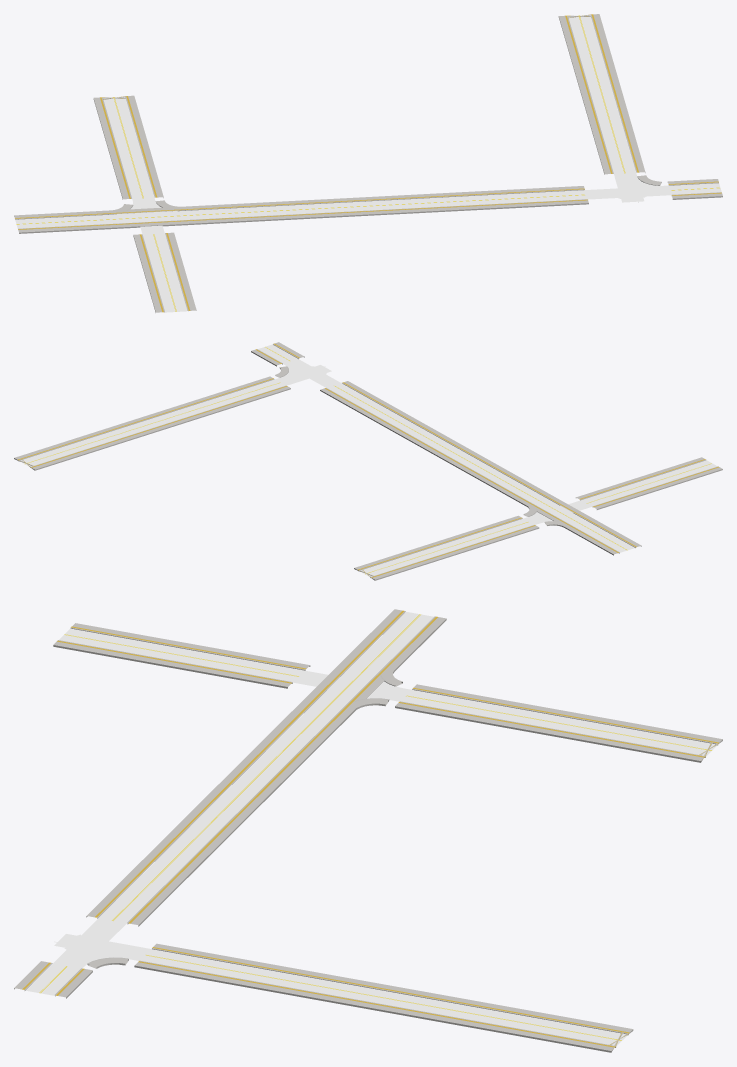
The model's file is roads_3_-3.gltf.
3 views of the same model, one above another, from view 1: azimuth 30°, elevation 25°; view 2: azimuth 150°, elevation 25°; view 3: azimuth 270°, elevation 25° (orthographic). The views are drawn at different scales.
Visible parts, largest first — view 1: roads_3_-3_SH_wet_asphalt, roads_3_-3_SH_sidewalk, roads_3_-3_Road_Tactile_Strip, roads_3_-3_SH_kerb, roads_3_-3_SH_road_marking_white, roads_3_-3_SH_road_marking_yellow; view 2: roads_3_-3_SH_wet_asphalt, roads_3_-3_SH_sidewalk, roads_3_-3_Road_Tactile_Strip, roads_3_-3_SH_kerb, roads_3_-3_SH_road_marking_white, roads_3_-3_SH_road_marking_yellow; view 3: roads_3_-3_SH_wet_asphalt, roads_3_-3_SH_sidewalk, roads_3_-3_Road_Tactile_Strip, roads_3_-3_SH_kerb, roads_3_-3_SH_road_marking_yellow, roads_3_-3_SH_road_marking_white.
Boxes of the visible parts, x1=… form: roads_3_-3_SH_wet_asphalt: x1=15, y1=15, x2=721, y2=312; roads_3_-3_SH_sidewalk: x1=14, y1=14, x2=722, y2=312; roads_3_-3_Road_Tactile_Strip: x1=15, y1=14, x2=721, y2=312; roads_3_-3_SH_kerb: x1=15, y1=14, x2=721, y2=312; roads_3_-3_SH_road_marking_white: x1=15, y1=15, x2=718, y2=312; roads_3_-3_SH_road_marking_yellow: x1=16, y1=15, x2=719, y2=311; roads_3_-3_SH_wet_asphalt: x1=19, y1=344, x2=717, y2=576; roads_3_-3_SH_sidewalk: x1=14, y1=342, x2=722, y2=580; roads_3_-3_Road_Tactile_Strip: x1=17, y1=343, x2=719, y2=577; roads_3_-3_SH_kerb: x1=18, y1=344, x2=718, y2=577; roads_3_-3_SH_road_marking_white: x1=21, y1=344, x2=706, y2=571; roads_3_-3_SH_road_marking_yellow: x1=25, y1=347, x2=711, y2=574; roads_3_-3_SH_wet_asphalt: x1=26, y1=612, x2=717, y2=1045; roads_3_-3_SH_sidewalk: x1=14, y1=609, x2=722, y2=1052; roads_3_-3_Road_Tactile_Strip: x1=22, y1=610, x2=718, y2=1047; roads_3_-3_SH_kerb: x1=24, y1=611, x2=718, y2=1047; roads_3_-3_SH_road_marking_yellow: x1=39, y1=614, x2=711, y2=1040; roads_3_-3_SH_road_marking_white: x1=26, y1=612, x2=716, y2=1045.
Size of what is drawn, in the model's own units: 271 by 0.506 by 183.
